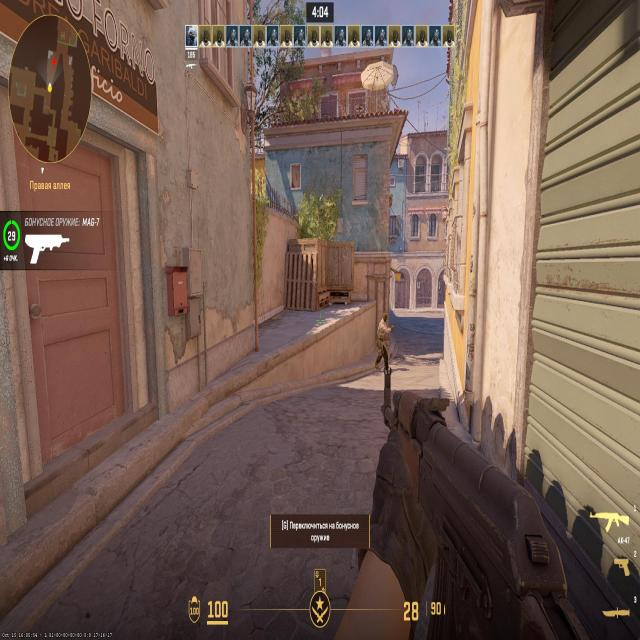T: (379, 314, 387, 362)
T_heat: (384, 318, 386, 328)
